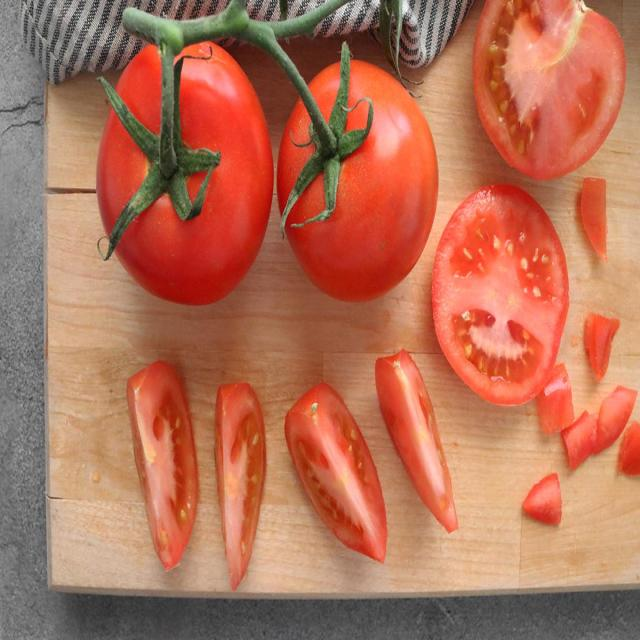Tomato: (94, 39, 274, 309), (284, 56, 436, 301), (437, 180, 571, 409), (471, 0, 624, 184), (285, 382, 396, 580), (373, 345, 458, 535), (130, 366, 200, 579), (215, 378, 268, 594)
